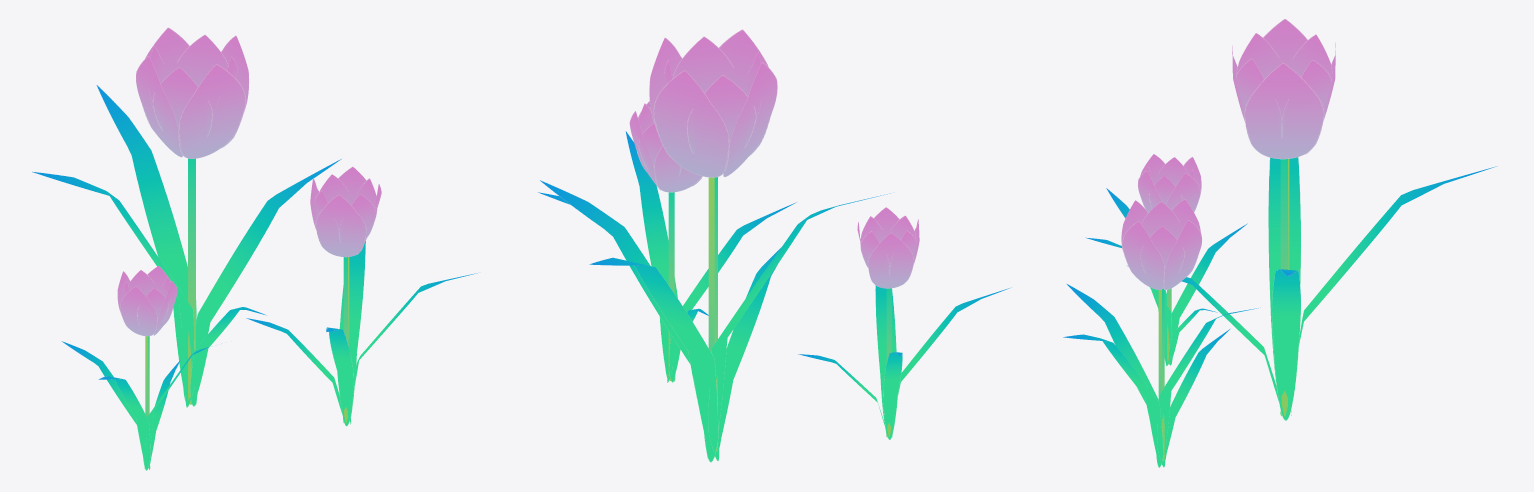
The model's file is Flowers_n02_23.fbx.
The picture shows the model from 3 angles, left to right: view 1: azimuth 30°, elevation 25°; view 2: azimuth 150°, elevation 25°; view 3: azimuth 270°, elevation 25°; orthographic projection. The views are drawn at different scales.
Parts seen in each view (by area): view 1: polySurface314; view 2: polySurface314; view 3: polySurface314.
Boxes of the visible parts, box(x1,y1,x2,y2) form: polySurface314: box(32, 27, 477, 470); polySurface314: box(538, 29, 1011, 462); polySurface314: box(1063, 19, 1497, 467).
Bounding box in the file's own units: 43.65 × 41.82 × 44.52.
1 material, 1 textured.
